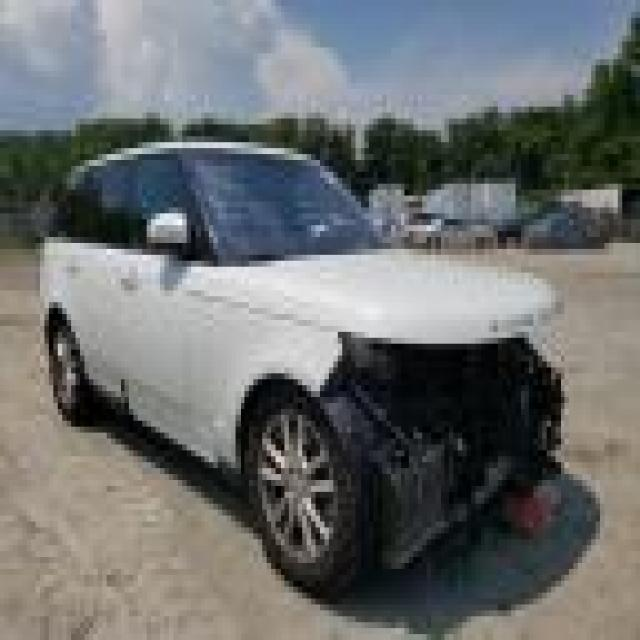moderate: (316, 300, 630, 612)
